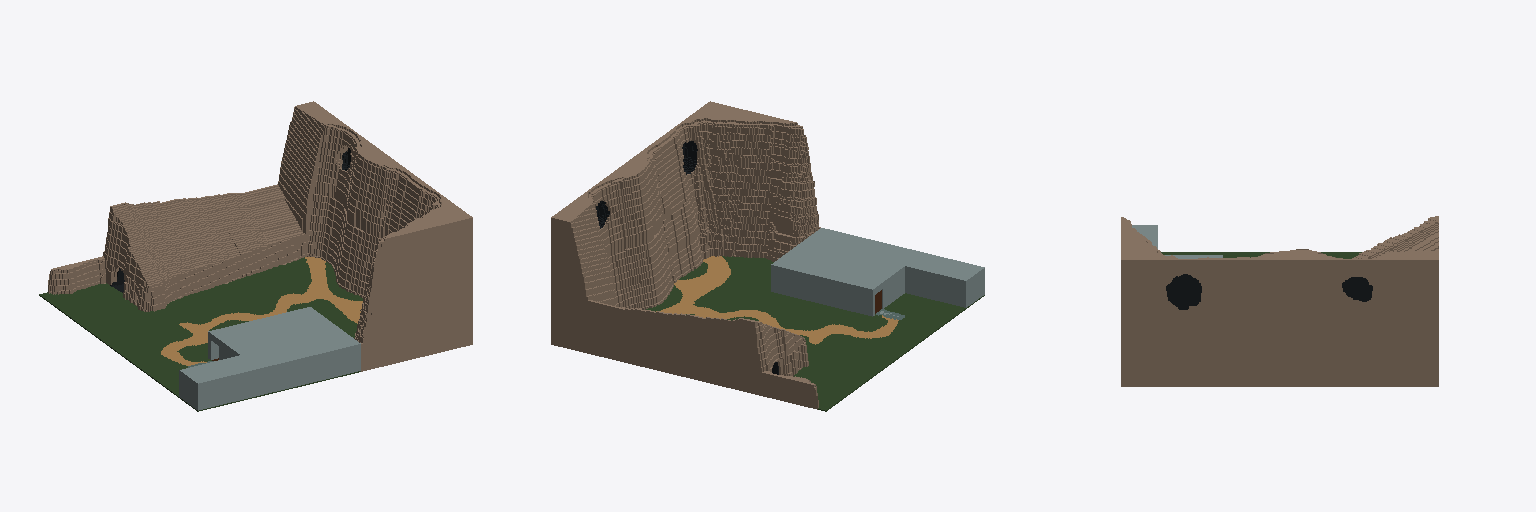
The picture shows the model from 3 angles: view 1: azimuth 30°, elevation 25°; view 2: azimuth 150°, elevation 25°; view 3: azimuth 270°, elevation 25°; orthographic projection.
Visible parts, largest first — view 1: object 1; view 2: object 1; view 3: object 1.
Part boxes in pixels (left/top/right/bottom): object 1: left=39, top=101, right=472, bottom=411; object 1: left=551, top=101, right=984, bottom=411; object 1: left=1121, top=216, right=1438, bottom=386.
Bounding box in the file's own units: 25.6 × 11.4 × 25.6.
1 materials, 1 textured.